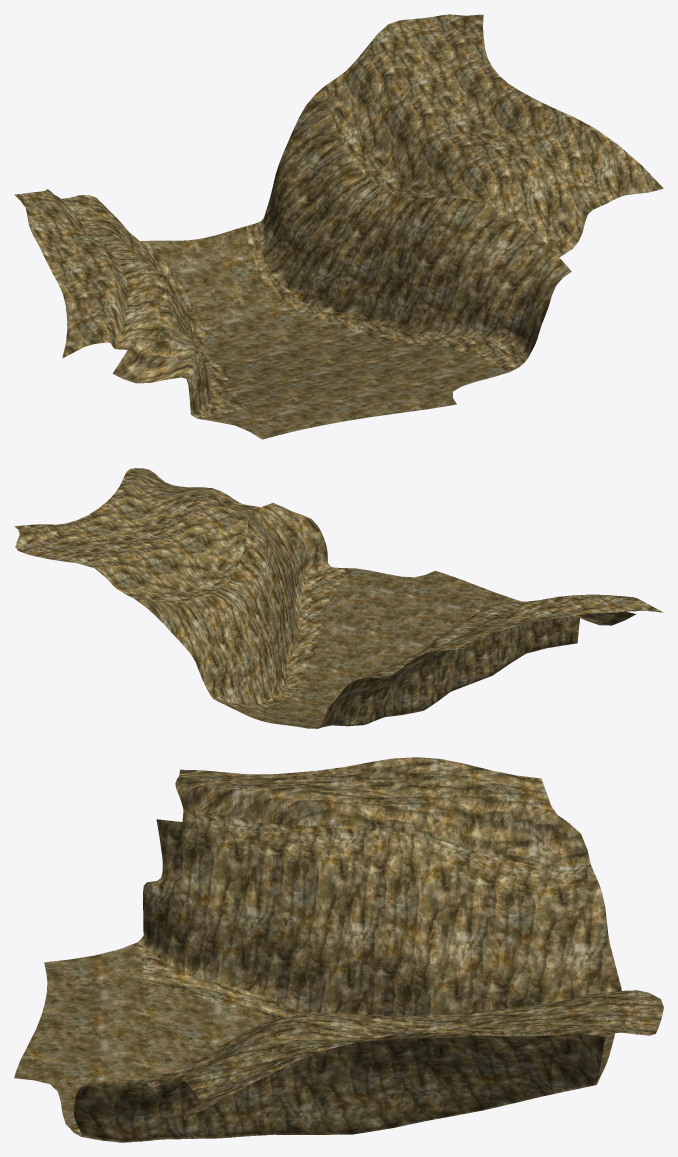
The model's file is RM_PLAYSURFACE_FINAL_OBJECT01.fbx.
3 views of the same model, one above another, from view 1: azimuth 30°, elevation 25°; view 2: azimuth 150°, elevation 25°; view 3: azimuth 270°, elevation 25° (orthographic). The views are drawn at different scales.
Visible parts, largest first — view 1: RM_PLAYSURFACE_FINAL_OBJECT01; view 2: RM_PLAYSURFACE_FINAL_OBJECT01; view 3: RM_PLAYSURFACE_FINAL_OBJECT01.
Part boxes in pixels (x1,y1,x2,y2): RM_PLAYSURFACE_FINAL_OBJECT01: (14, 14, 663, 439); RM_PLAYSURFACE_FINAL_OBJECT01: (14, 468, 663, 728); RM_PLAYSURFACE_FINAL_OBJECT01: (14, 757, 663, 1142).
Bounding box in the file's own units: 545842 × 160856 × 396703.
3 materials, 3 textured.
